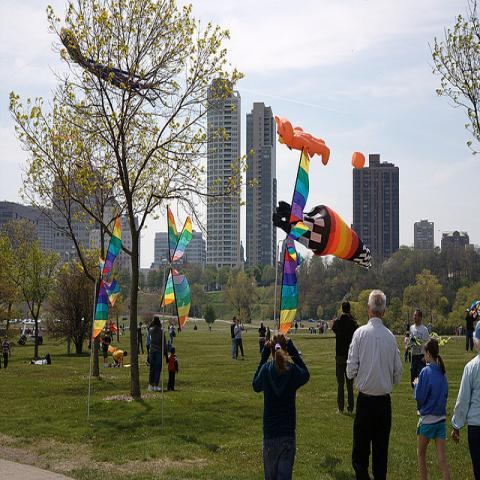car: (22, 318, 32, 325), (308, 319, 315, 323), (317, 318, 324, 322)
